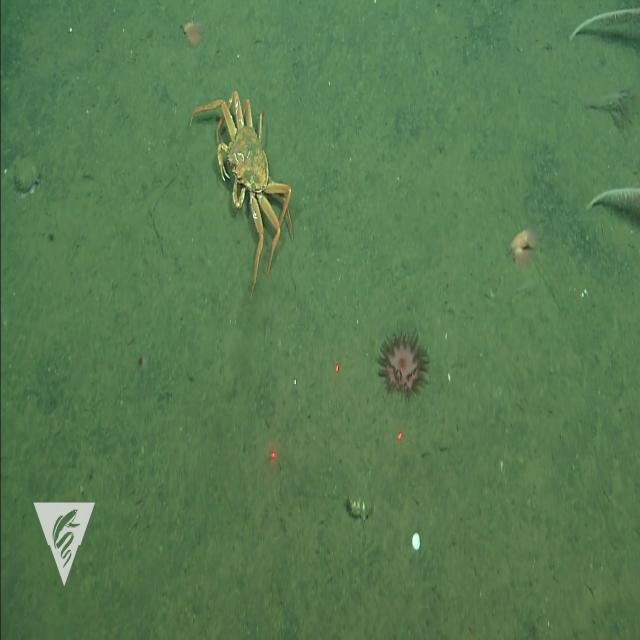Not Brittle Star: (224, 123, 272, 200)
